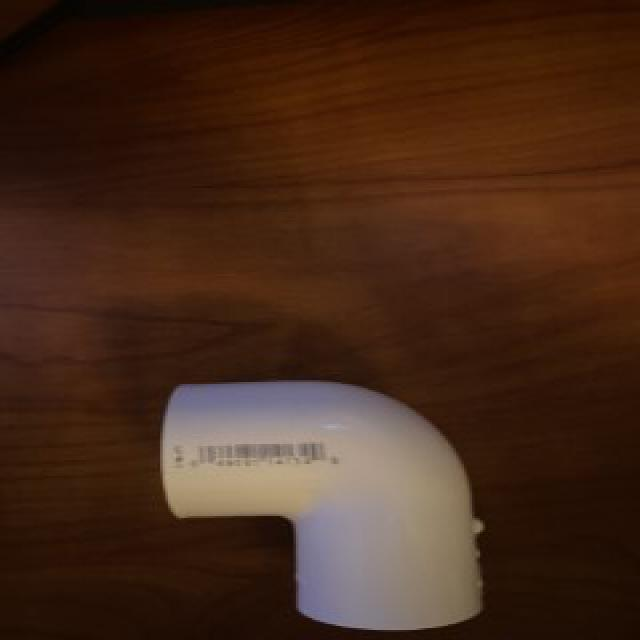L Joint: (158, 381, 485, 635)
